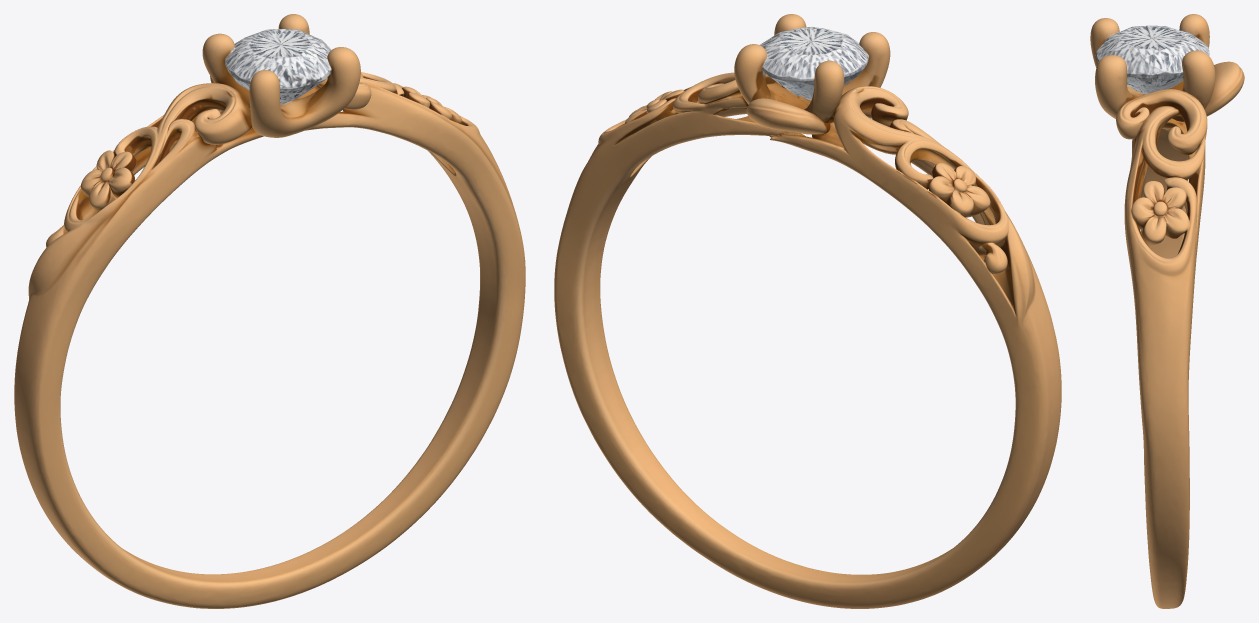
Rendered from solitaire_meshy.glb.
The picture shows the model from 3 angles, left to right: view 1: azimuth 30°, elevation 25°; view 2: azimuth 150°, elevation 25°; view 3: azimuth 270°, elevation 25°; orthographic projection. The views are drawn at different scales.
Size of the model in its own units: 1.77 by 1.9 by 0.4838.
Materials: 1 (1 with a texture image).
